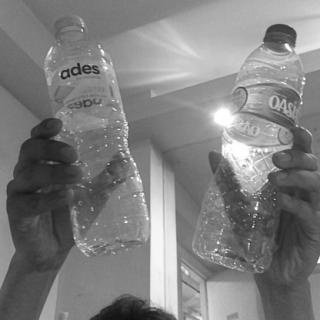plastic_bottles: (192, 23, 305, 267), (41, 18, 152, 249)
